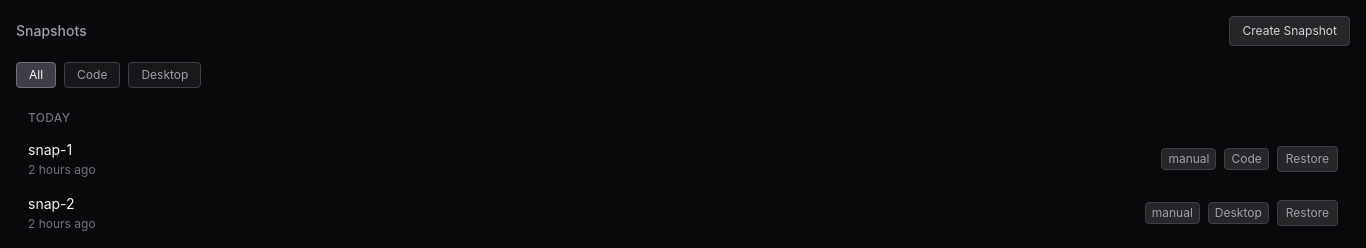
SnapshotsView › filter tab 'All' shows all snapshots
What coordinates should you click on to do the following:
click the button "Code"
I would click on:
 (92, 75)
Its box is [64,62,120,88].
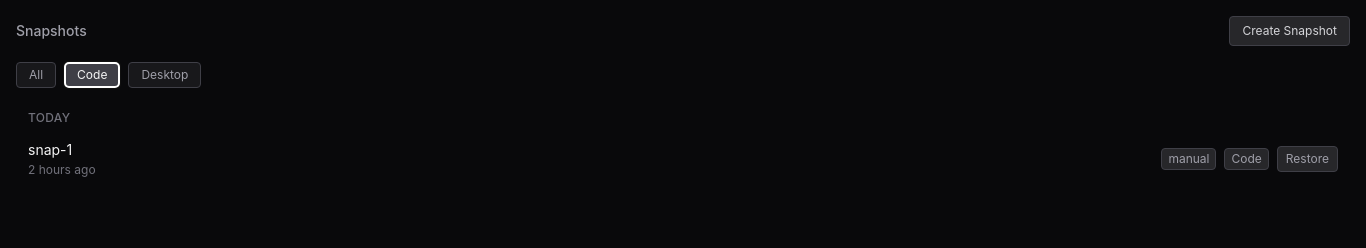
What coordinates should you click on to do the following:
click the button "All"
I would click on:
 (36, 75)
Its box is [16,62,56,88].
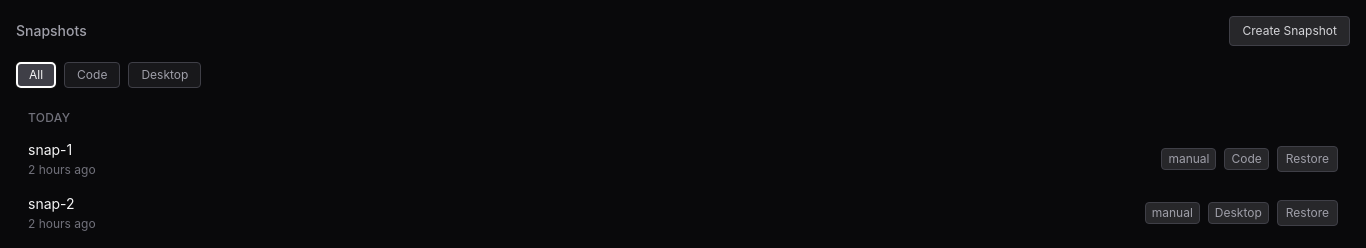
Expected: the text "snap-1" is shown, [28,141,72,158]
Expected: the text "snap-2" is shown, [28,195,75,212]
